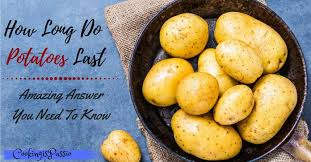potato: (215, 6, 293, 71), (171, 109, 243, 158), (242, 72, 295, 138), (217, 38, 264, 82), (177, 73, 219, 114), (163, 15, 208, 53), (211, 82, 249, 121)
